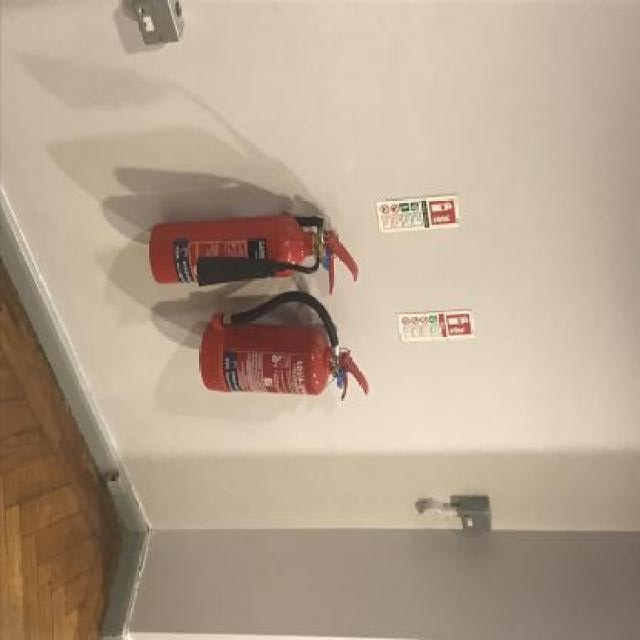fire extinguisher: (148, 209, 360, 296), (200, 292, 369, 399)
